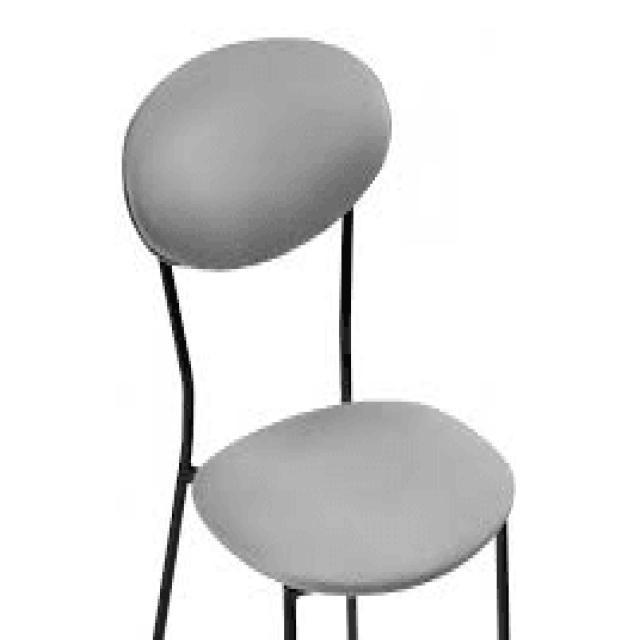chair: (119, 29, 521, 640), (120, 39, 516, 598)
